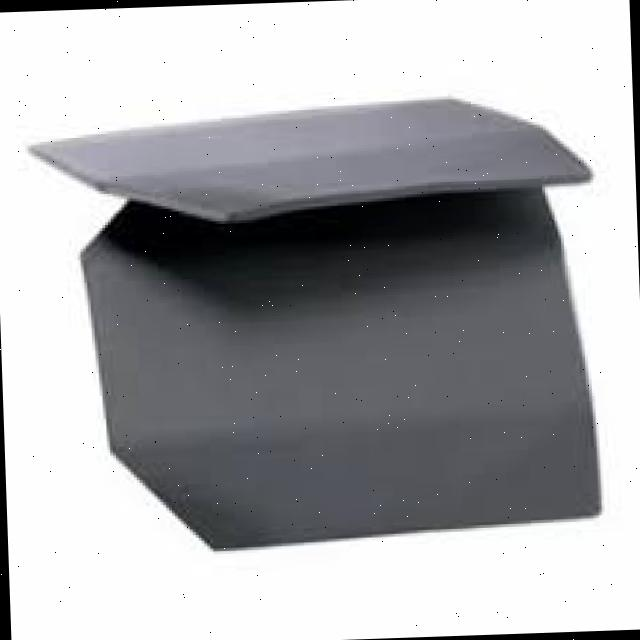Dry: (28, 97, 596, 553)
